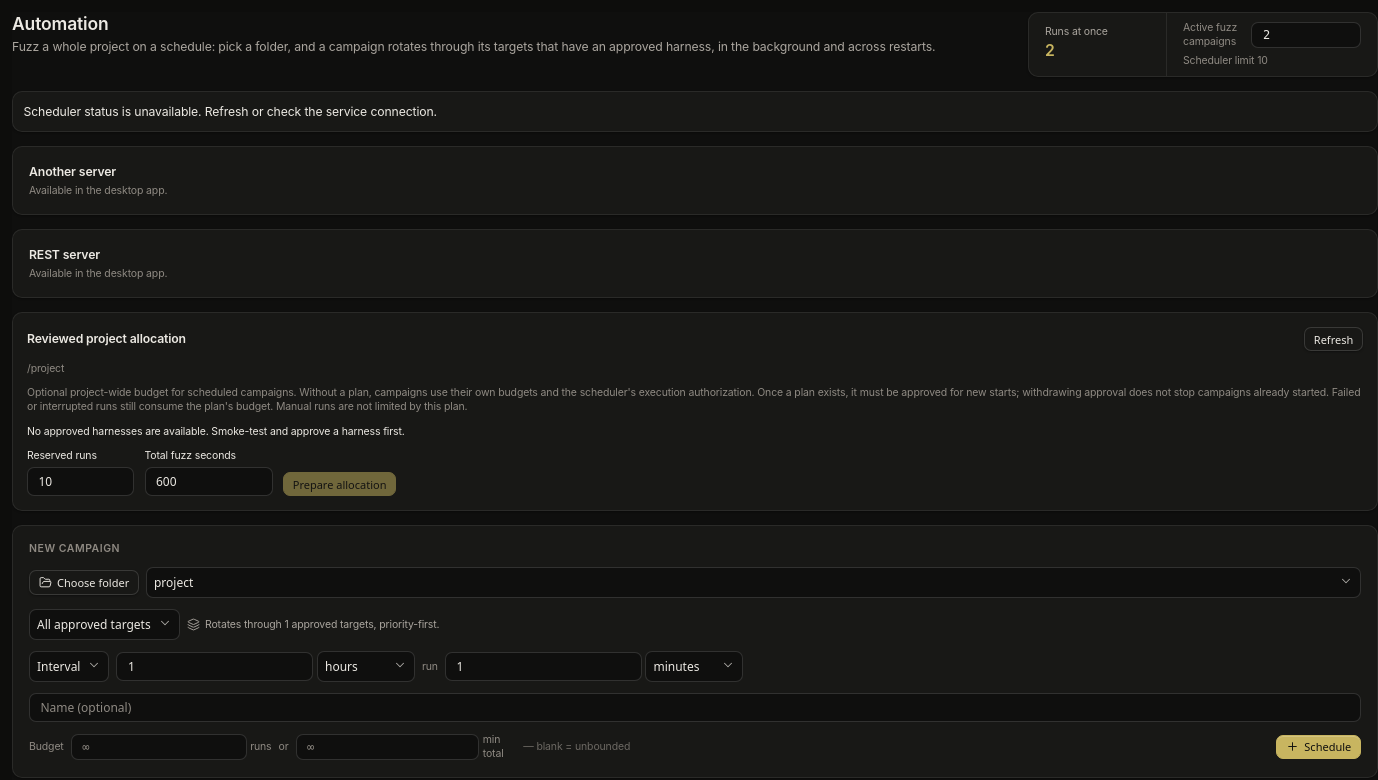
it: schedules an event trigger with an explicit name
Later steps or results of the test are not shown.
Click the dropdown labelled "Interval". click: (69,667)
box: [29,651,110,682]
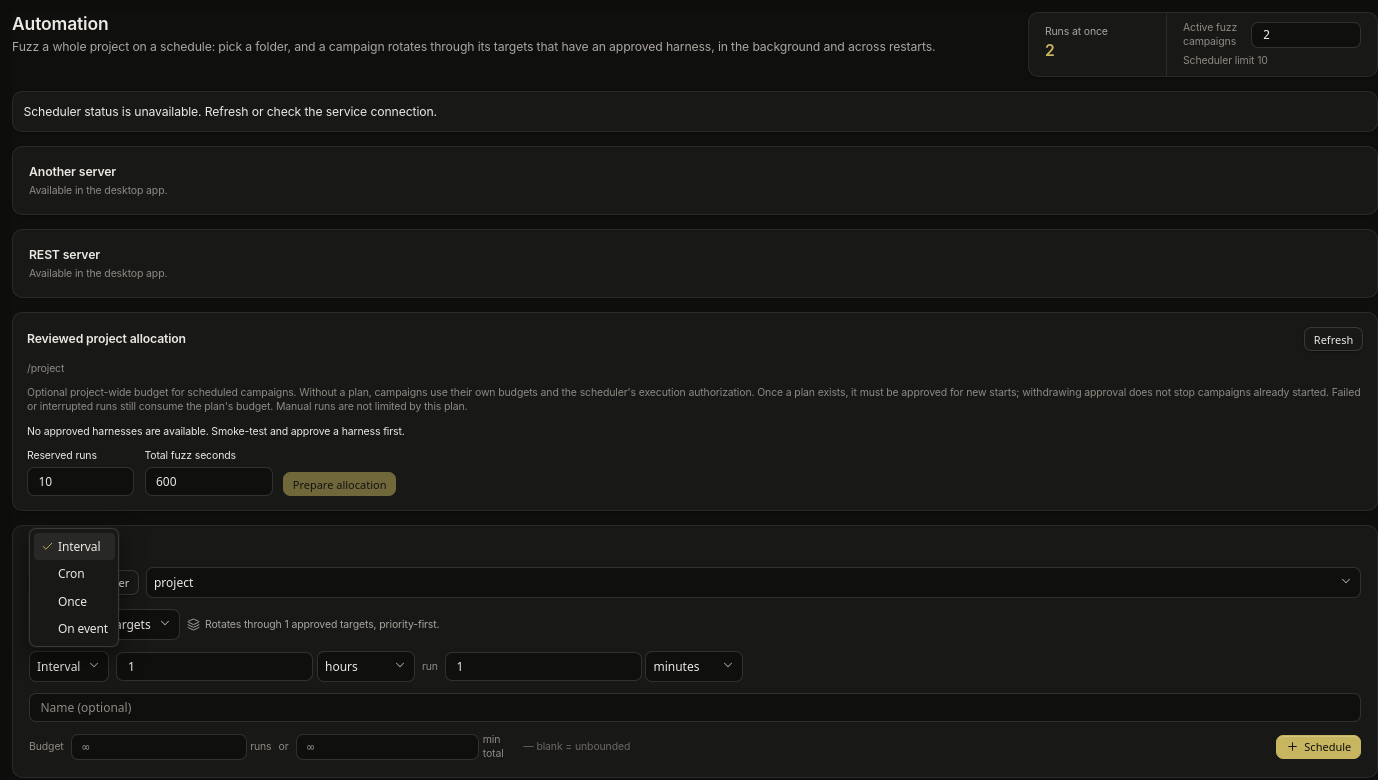
Expected: the option "On event" is shown
Click the option "On event". click: (83,629)
box: [58,620,108,637]
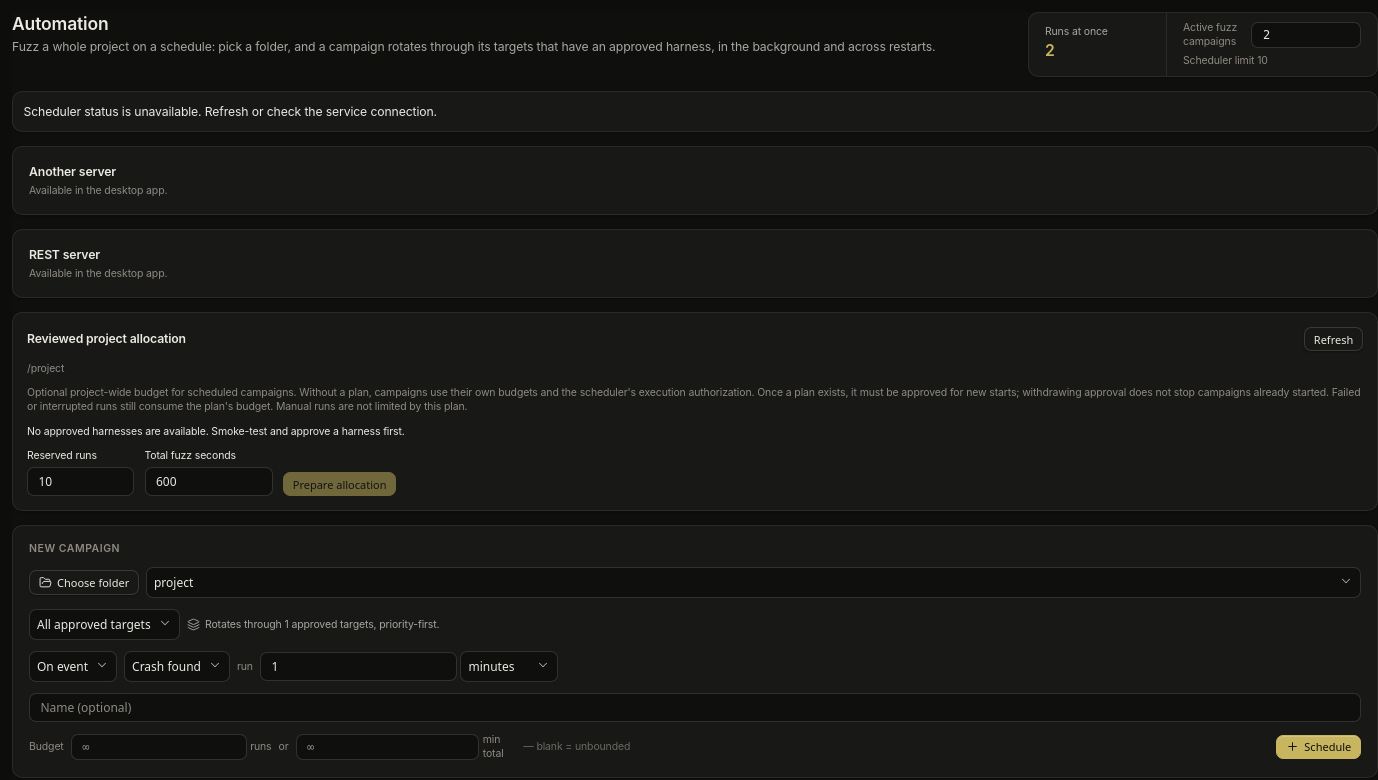
Click the dropdown labelled "Crash found". click: (177,667)
box: [124,651,230,682]
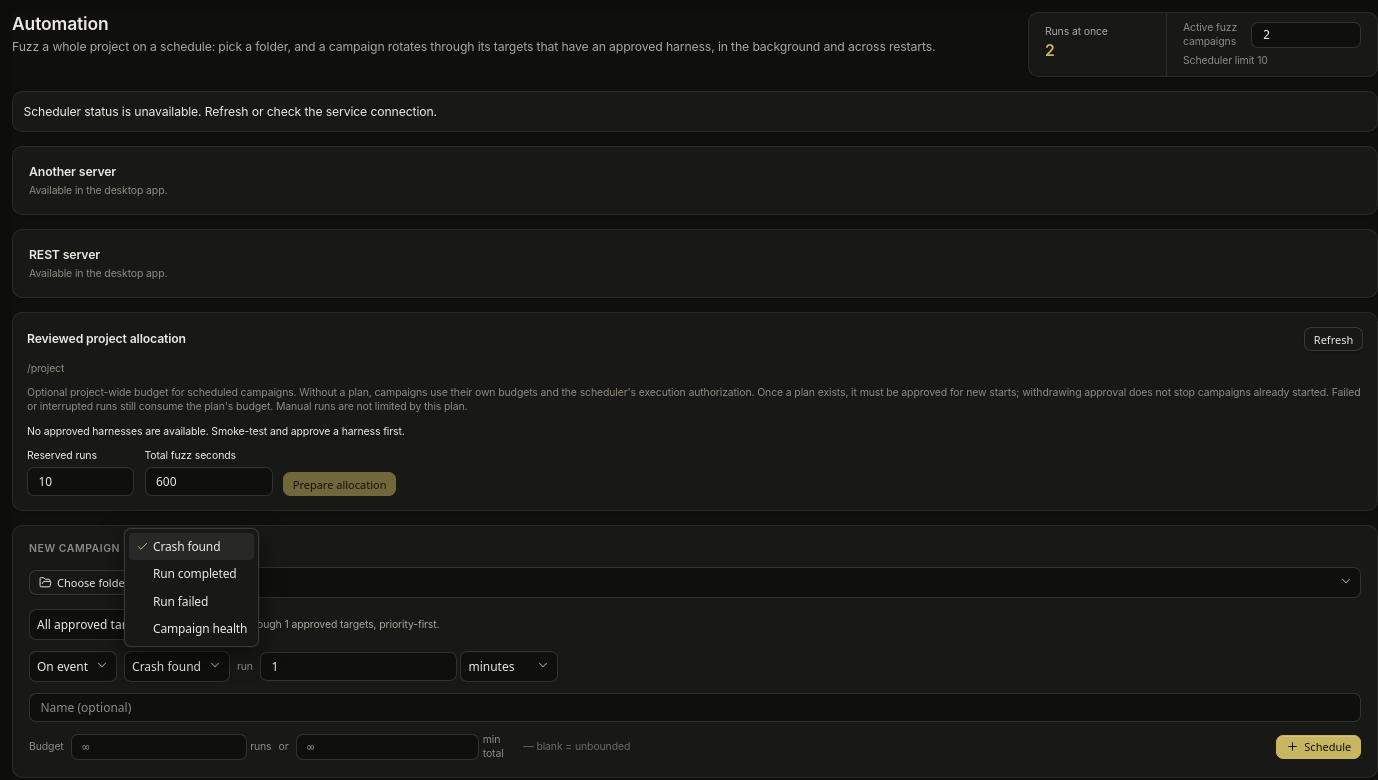
Expected: the option "Run failed" is shown, [153,593,208,610]
